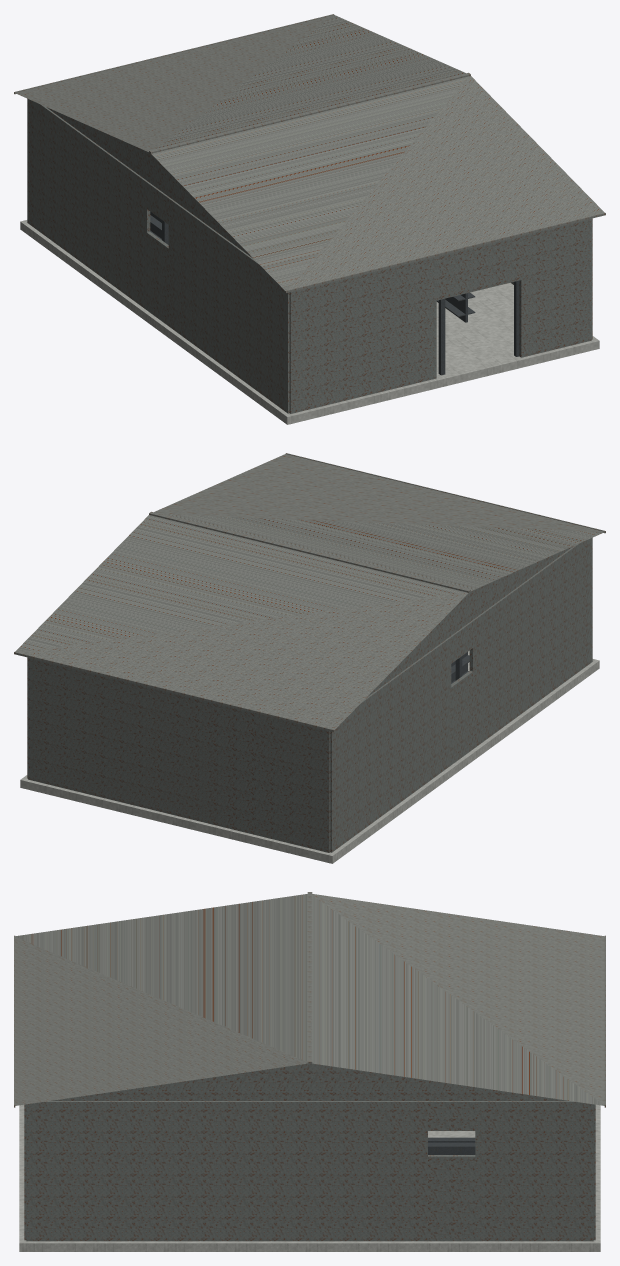
File: building.industrial.warehouse.glb
The picture shows the model from 3 angles, top to bottom: view 1: azimuth 30°, elevation 25°; view 2: azimuth 150°, elevation 25°; view 3: azimuth 270°, elevation 25°; orthographic projection. The views are drawn at different scales.
Visible parts, largest first — view 1: building.industrial.warehouse; view 2: building.industrial.warehouse; view 3: building.industrial.warehouse.
Part boxes in pixels (left/top/right/bottom): building.industrial.warehouse: left=14, top=14, right=605, bottom=424; building.industrial.warehouse: left=14, top=453, right=605, bottom=863; building.industrial.warehouse: left=14, top=892, right=605, bottom=1251.
Bounding box in the file's own units: 17 × 8.97 × 25.05.
4 materials, 4 textured.
